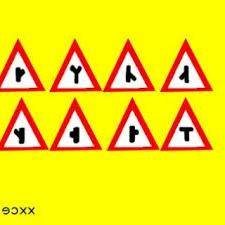fork_road: (104, 97, 159, 152), (160, 37, 211, 93), (49, 95, 100, 150), (105, 37, 154, 94), (51, 37, 100, 92), (160, 98, 212, 149), (0, 95, 47, 150), (0, 36, 46, 91)
